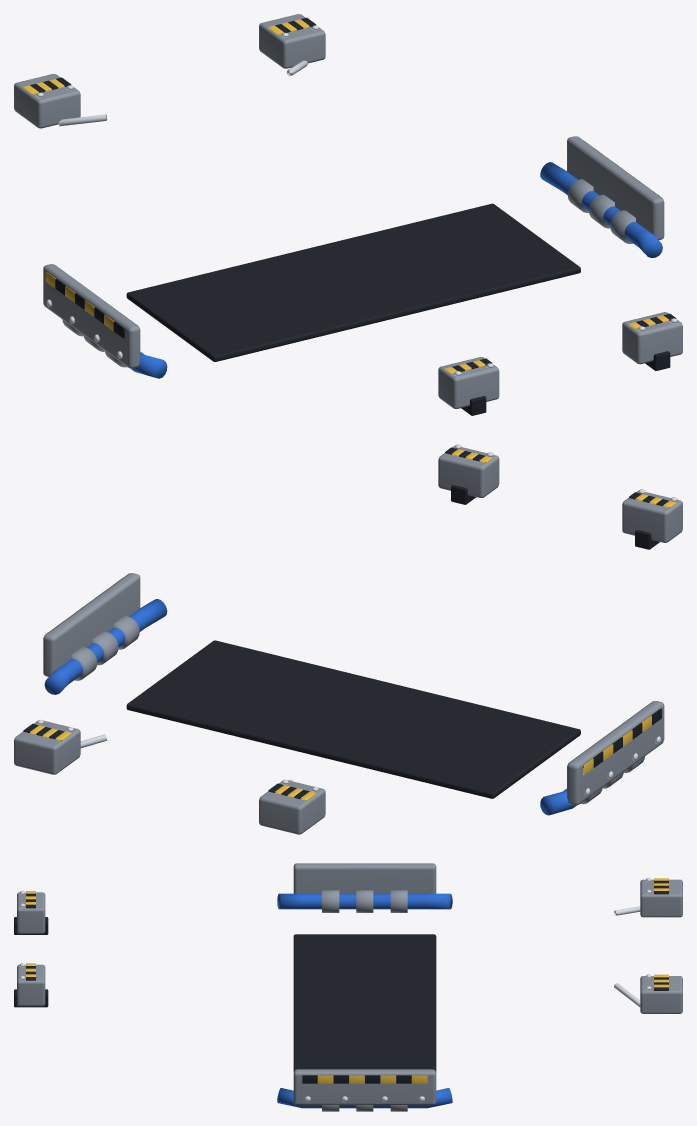
Rendered from parts_ballast.glb.
3 renders of one model, top to bottom at view 1: azimuth 30°, elevation 25°; view 2: azimuth 150°, elevation 25°; view 3: azimuth 270°, elevation 25°, orthographic. The views are drawn at different scales.
Parts seen in each view (by area): view 1: LowPlate, HeavyPlate_1, HeavyPlate_-1, FrontWeight_1, FrontWeight_-1, RearWeight_-1, RearWeight_1, LowRail_1; view 2: LowPlate, HeavyPlate_1, HeavyPlate_-1, FrontWeight_-1, FrontWeight_1, RearWeight_1, RearWeight_-1, LowRail_1; view 3: LowPlate, HeavyPlate_-1, HeavyPlate_1, LowRail_-1, FrontWeight_-1, FrontWeight_1, RearWeight_1, RearWeight_-1, LowRail_1, LowPuck_-1_0, LowPuck_-1_1, LowPuck_-1_2.
Boxes of the visible parts, left/top/right/bottom form: LowPlate: left=126, top=203, right=580, bottom=361; HeavyPlate_1: left=567, top=136, right=664, bottom=239; HeavyPlate_-1: left=43, top=264, right=140, bottom=368; FrontWeight_1: left=259, top=14, right=325, bottom=68; FrontWeight_-1: left=14, top=74, right=80, bottom=128; RearWeight_-1: left=438, top=357, right=499, bottom=408; RearWeight_1: left=622, top=312, right=682, bottom=364; LowRail_1: left=540, top=162, right=662, bottom=257; LowPlate: left=126, top=640, right=580, bottom=798; HeavyPlate_1: left=43, top=573, right=140, bottom=676; HeavyPlate_-1: left=567, top=701, right=664, bottom=805; FrontWeight_-1: left=259, top=780, right=325, bottom=834; FrontWeight_1: left=14, top=720, right=80, bottom=774; RearWeight_1: left=438, top=446, right=499, bottom=497; RearWeight_-1: left=622, top=491, right=682, bottom=542; LowRail_1: left=44, top=599, right=167, bottom=694; LowPlate: left=293, top=934, right=436, bottom=1071; HeavyPlate_-1: left=293, top=863, right=436, bottom=893; HeavyPlate_1: left=293, top=1069, right=436, bottom=1104; LowRail_-1: left=277, top=893, right=452, bottom=909; FrontWeight_-1: left=640, top=879, right=682, bottom=917; FrontWeight_1: left=640, top=976, right=682, bottom=1013; RearWeight_1: left=17, top=964, right=45, bottom=1006; RearWeight_-1: left=17, top=892, right=45, bottom=933; LowRail_1: left=277, top=1088, right=452, bottom=1108; LowPuck_-1_0: left=390, top=890, right=407, bottom=912; LowPuck_-1_1: left=356, top=890, right=373, bottom=912; LowPuck_-1_2: left=322, top=890, right=339, bottom=912.
Size of the model in its own units: 1.77 by 0.305 by 2.35.
